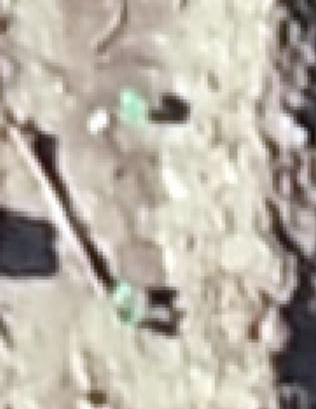cotton: (115, 280, 136, 323), (123, 91, 146, 120)
